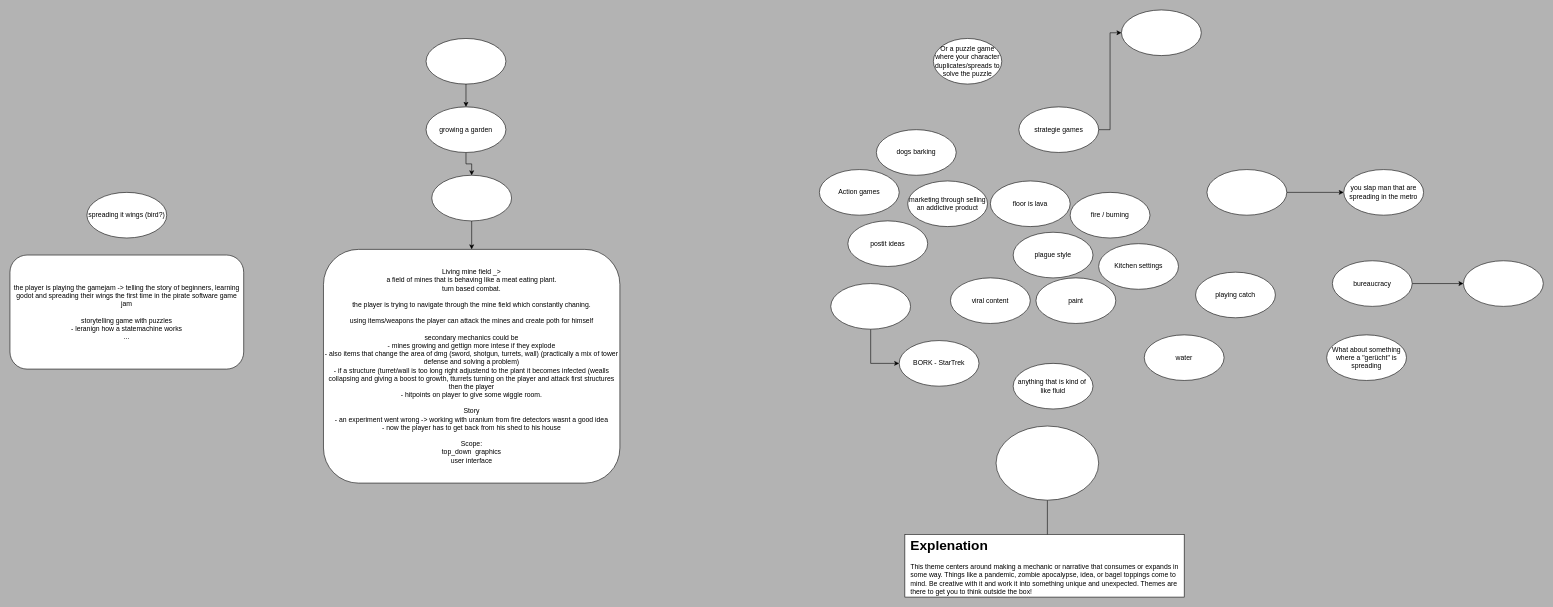
This 1553x607 diagram has some shape labels left out. Each missing label, with the centre of its shape:
Entropy: pixel 466 61
It's Spreading: pixel 1047 463
living minefield: pixel 471 198
men can spread int he metro -> man spradhing: pixel 1246 192
nanomachines: pixel 870 306
Tower Defense: pixel 1161 32
you fight the spread of bad laws: pixel 1503 283
